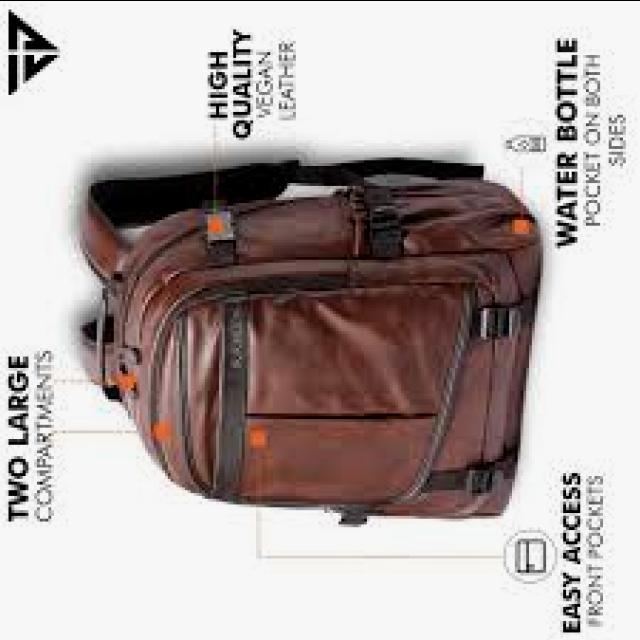backpack: (75, 158, 541, 528)
